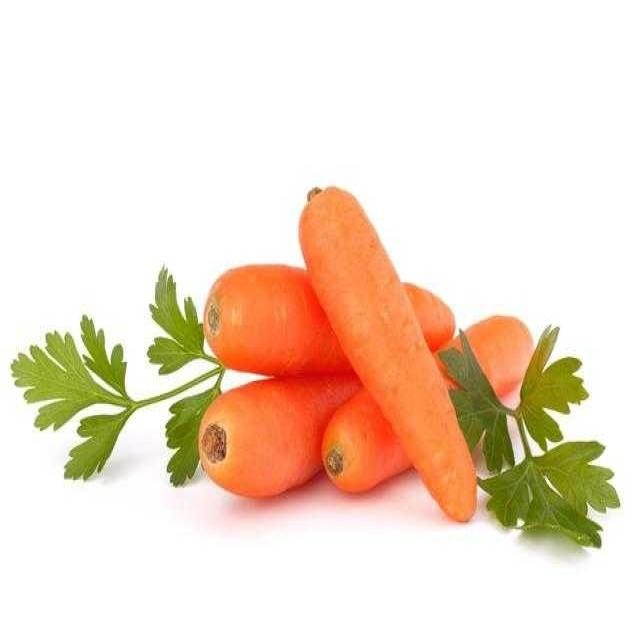carrots: (309, 182, 490, 519), (338, 304, 563, 487), (186, 243, 459, 349)
